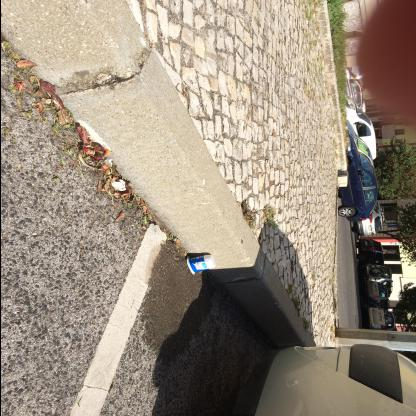plastik: (186, 254, 216, 274)
